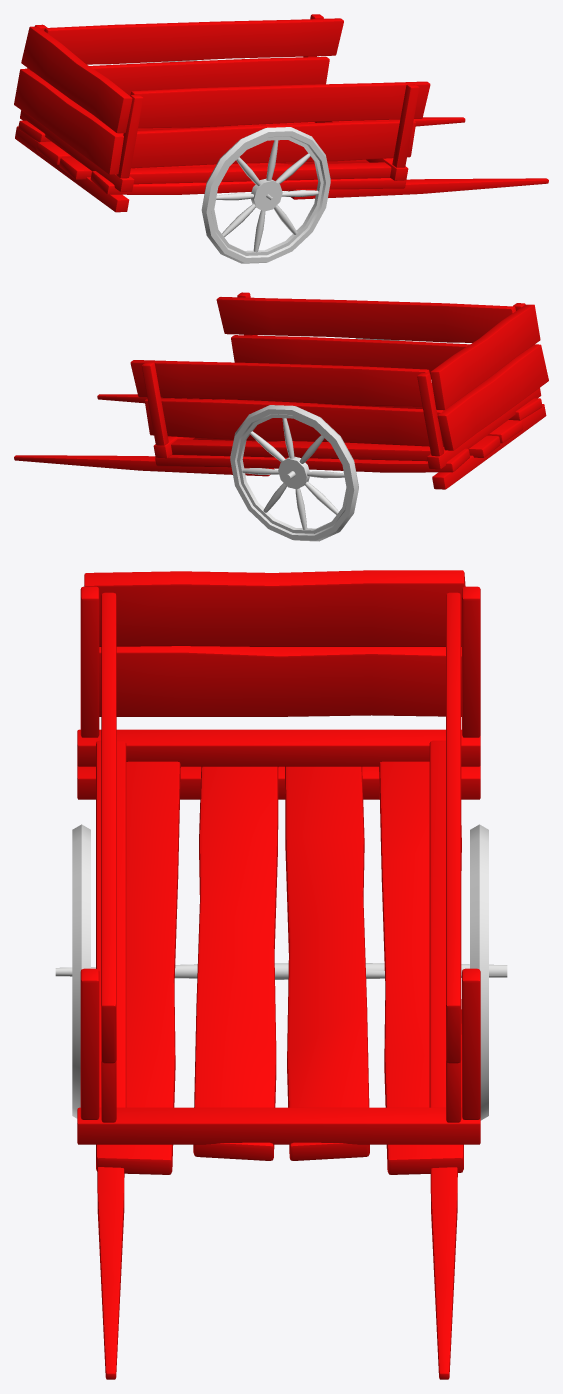
The model's file is Wooden Cart.FBX.
3 views of the same model, one above another, from view 1: azimuth 30°, elevation 25°; view 2: azimuth 150°, elevation 25°; view 3: azimuth 270°, elevation 25° (orthographic). The views are drawn at different scales.
Parts seen in each view (by area): view 1: Cart, Wheels; view 2: Cart, Wheels; view 3: Cart, Wheels.
Boxes of the visible parts, x1=… form: Cart: x1=14, y1=14, x2=548, y2=212; Wheels: x1=148, y1=60, x2=330, y2=263; Cart: x1=14, y1=292, x2=548, y2=489; Wheels: x1=230, y1=338, x2=412, y2=541; Cart: x1=77, y1=570, x2=480, y2=1379; Wheels: x1=55, y1=824, x2=507, y2=1120.
Size of the model in its own units: 681 by 290 by 297.
